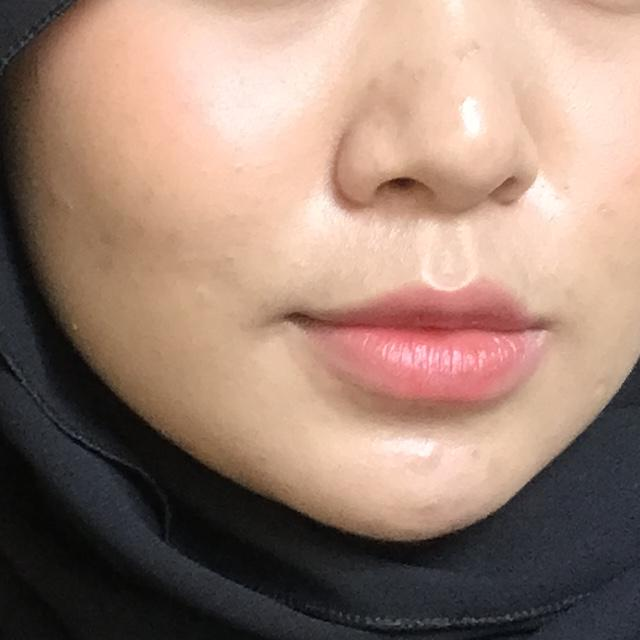mendengar: (0, 0, 295, 640)
